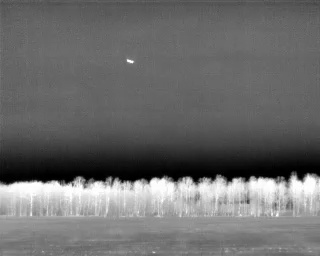DRONE: (123, 55, 137, 68)
